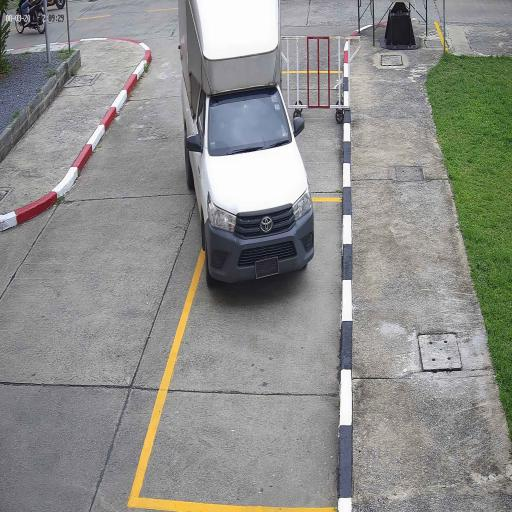car: (176, 0, 317, 290)
